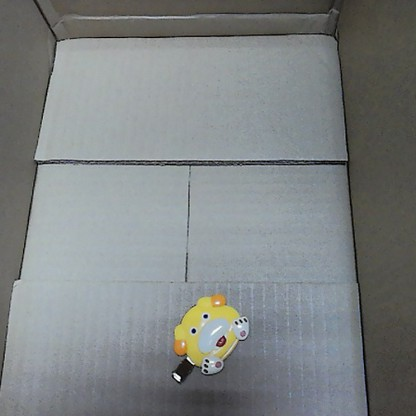dogclip: (167, 291, 246, 383)
